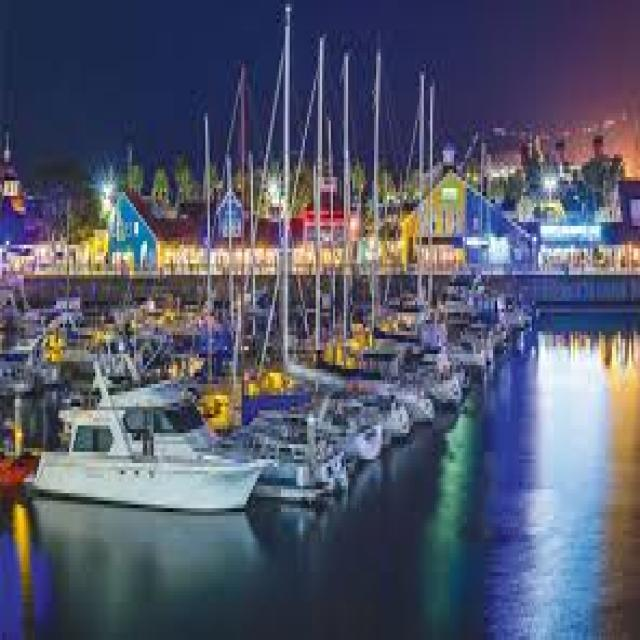houseboat: (26, 348, 260, 506)
